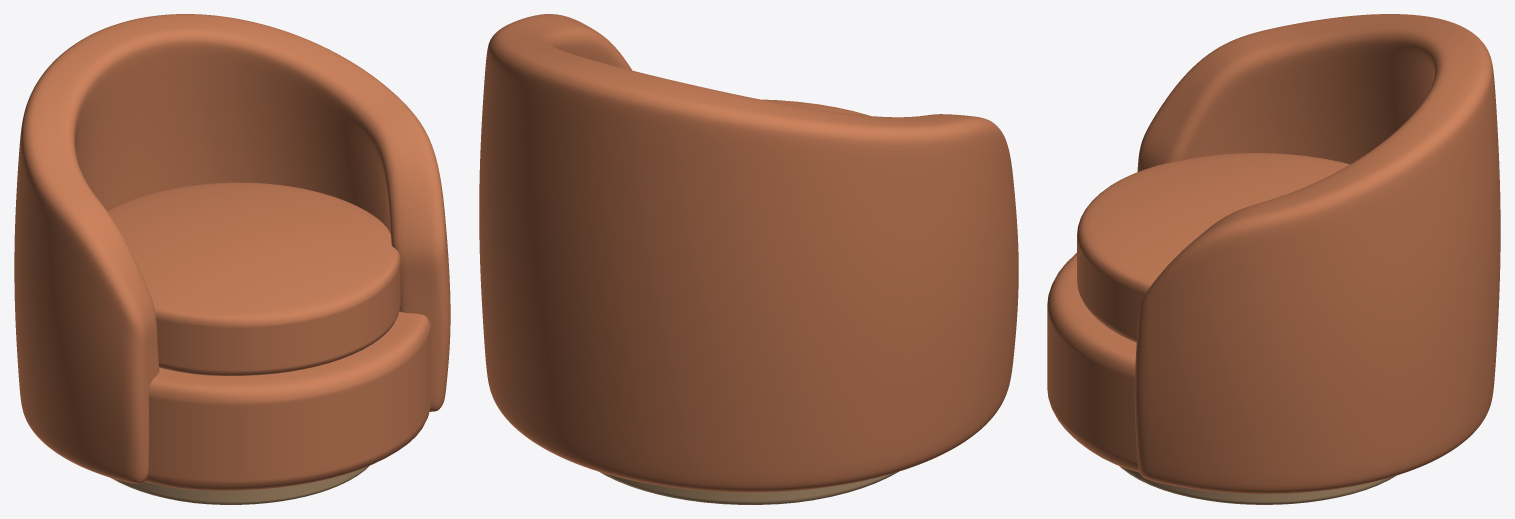
File: accent_chair.glb
3 renders of one model, left to right at view 1: azimuth 30°, elevation 25°; view 2: azimuth 150°, elevation 25°; view 3: azimuth 270°, elevation 25°, orthographic. The views are drawn at different scales.
Parts seen in each view (by area): view 1: Backrest, Seat, SeatBase, Plinth; view 2: Backrest, Plinth; view 3: Backrest, Seat, SeatBase, Plinth.
Boxes of the visible parts, x1,y1,x2,y2 form: Backrest: [14, 14, 450, 483]; Seat: [107, 182, 400, 375]; SeatBase: [144, 311, 430, 490]; Plinth: [111, 466, 368, 504]; Backrest: [479, 14, 1018, 492]; Plinth: [600, 471, 898, 504]; Backrest: [1134, 14, 1500, 493]; Seat: [1077, 153, 1349, 342]; SeatBase: [1047, 253, 1139, 472]; Plinth: [1119, 466, 1395, 504].
Bounding box in the file's own units: 0.8669 × 0.7669 × 0.8314.
